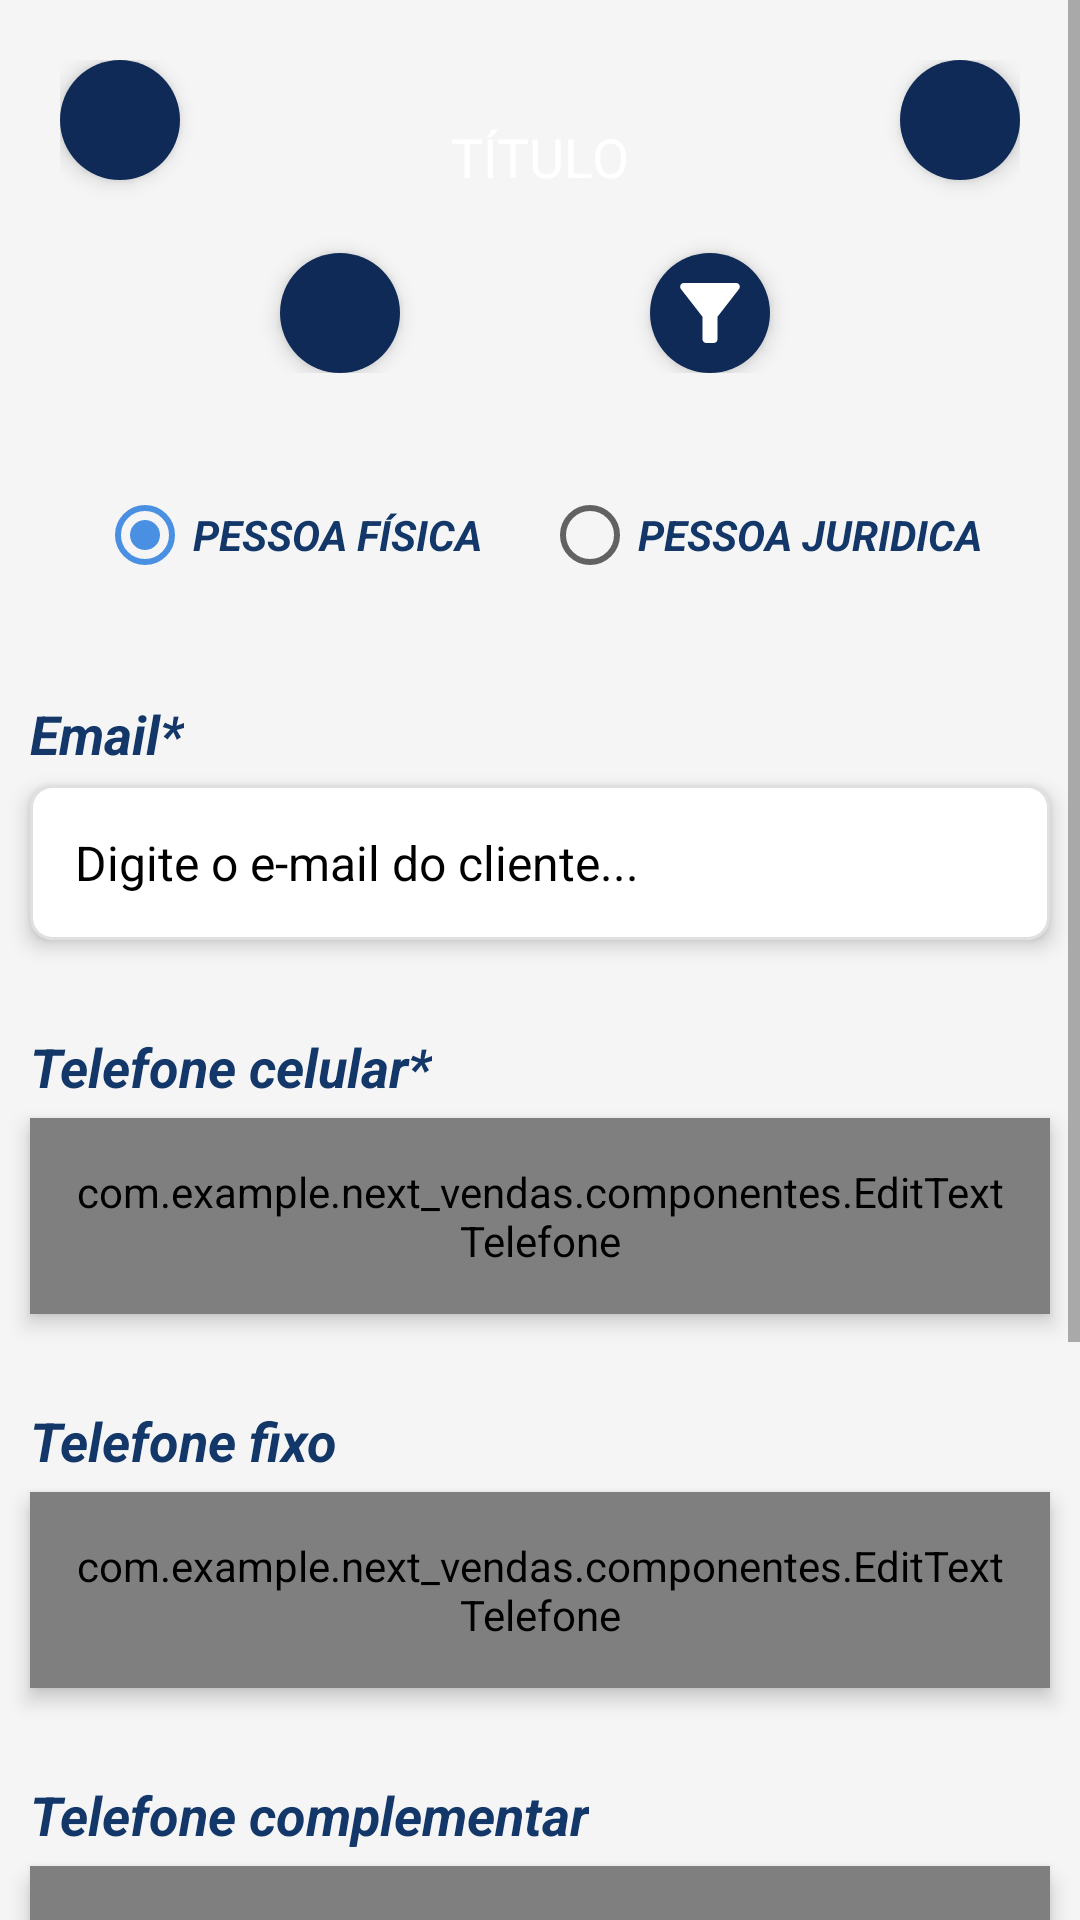

Icons on this 1080x1920 Android screen, each with the point to tap as point (x, y):
filtro menu: point (710, 313)
